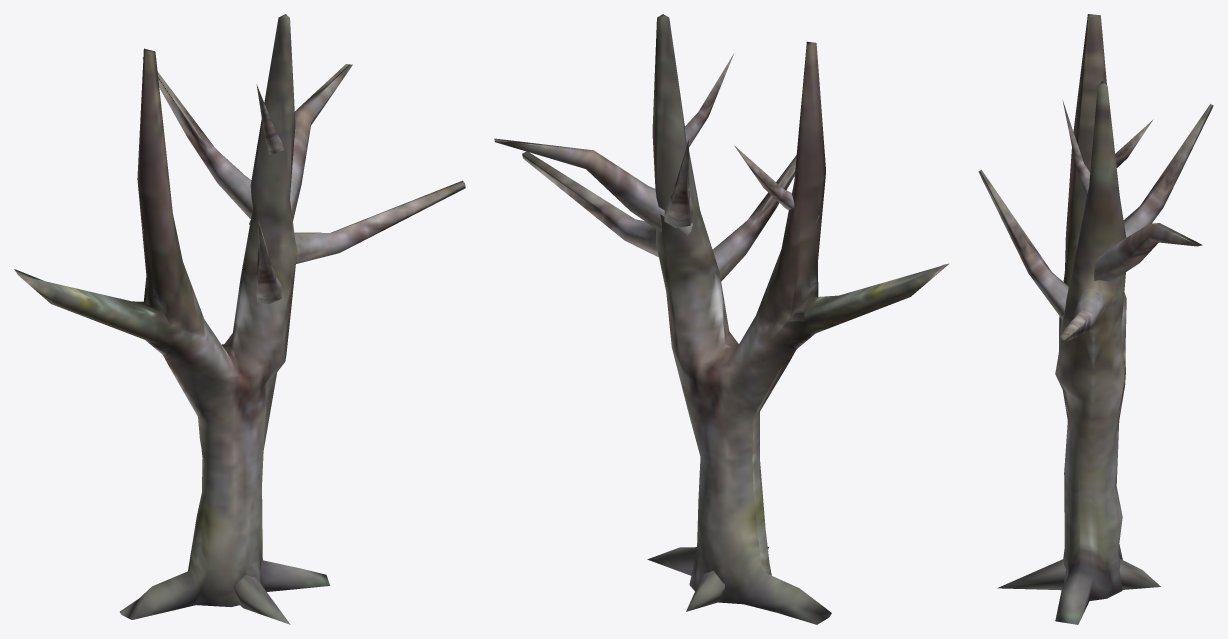
The picture shows the model from 3 angles, left to right: view 1: azimuth 30°, elevation 25°; view 2: azimuth 150°, elevation 25°; view 3: azimuth 270°, elevation 25°; orthographic projection. The views are drawn at different scales.
Parts seen in each view (by area): view 1: U3DMesh; view 2: U3DMesh; view 3: U3DMesh.
Boxes of the visible parts, <box> form: U3DMesh: <box>14,14,465,624</box>; U3DMesh: <box>494,14,948,624</box>; U3DMesh: <box>978,14,1213,624</box>.
Size of the model in its own units: 237 by 294 by 117.
Materials: 1 (1 with a texture image).
